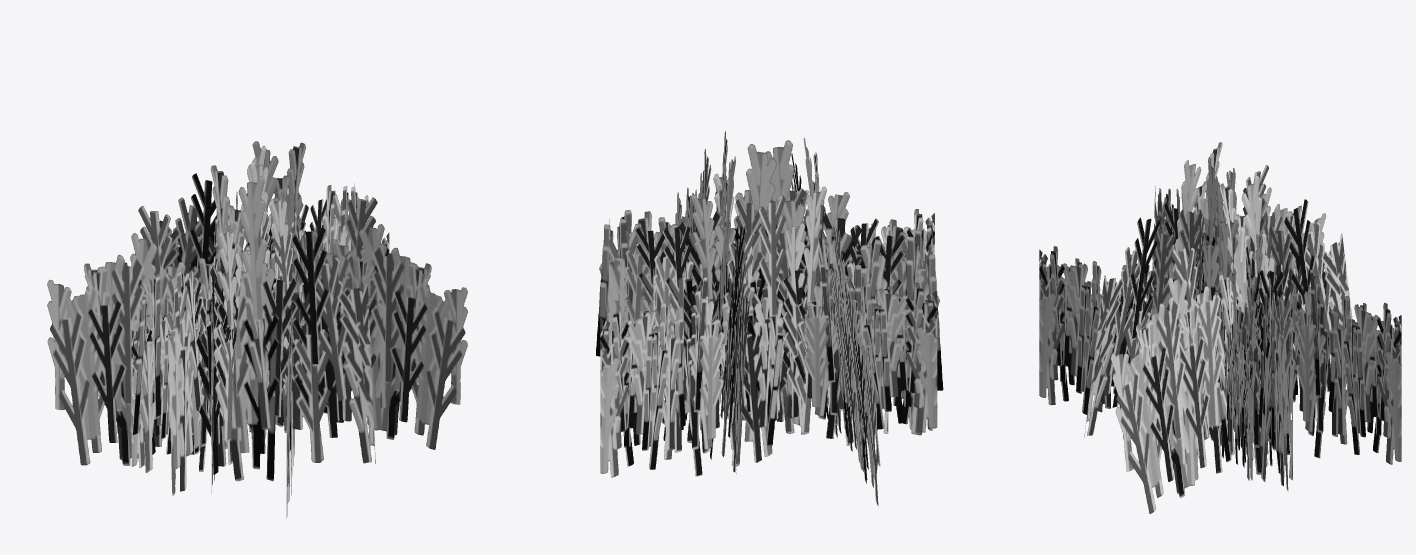
File: forst_B.fbx
The picture shows the model from 3 angles, left to right: view 1: azimuth 30°, elevation 25°; view 2: azimuth 150°, elevation 25°; view 3: azimuth 270°, elevation 25°; orthographic projection. The views are drawn at different scales.
Visible parts, largest first — view 1: forst_B; view 2: forst_B; view 3: forst_B.
Part boxes in pixels (bbox=[...]): forst_B: bbox=[47, 141, 467, 518]; forst_B: bbox=[596, 131, 943, 505]; forst_B: bbox=[1039, 142, 1401, 513].
Bounding box in the file's own units: 154 × 136 × 125.
Materials: 1 (1 with a texture image).
